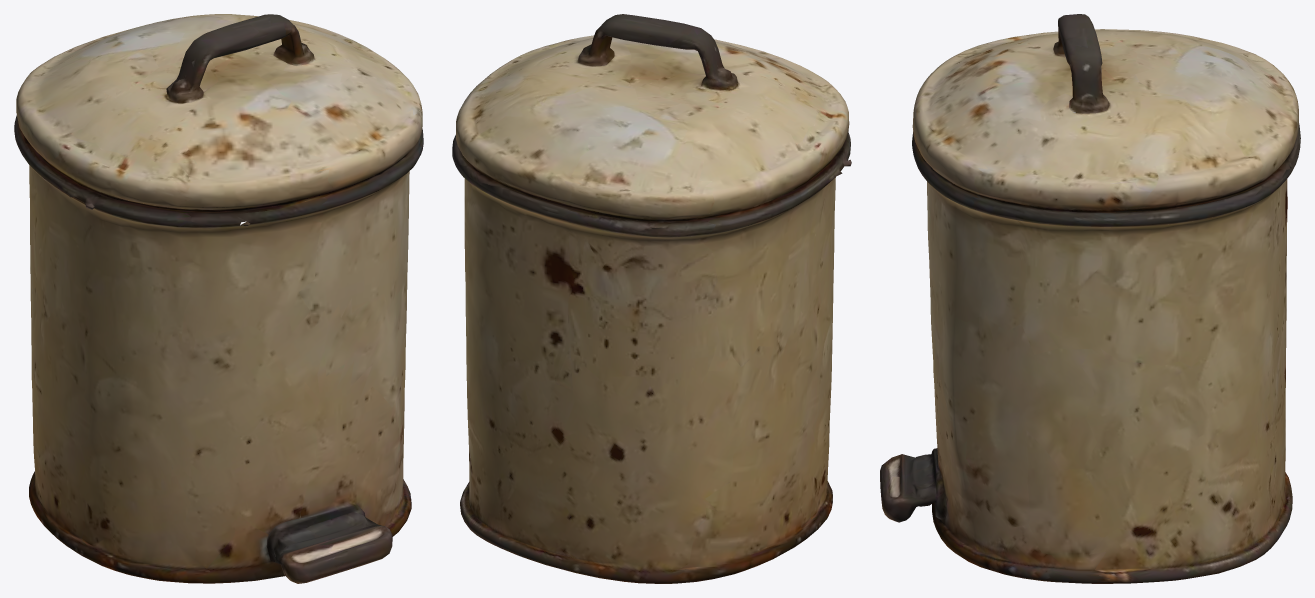
The model's file is waste.glb.
The picture shows the model from 3 angles, left to right: view 1: azimuth 30°, elevation 25°; view 2: azimuth 150°, elevation 25°; view 3: azimuth 270°, elevation 25°; orthographic projection. The views are drawn at different scales.
Parts seen in each view (by area): view 1: tripo_node_bfc0fecc-3671-4216-99c1-187f0698515c; view 2: tripo_node_bfc0fecc-3671-4216-99c1-187f0698515c; view 3: tripo_node_bfc0fecc-3671-4216-99c1-187f0698515c.
Part boxes in pixels (box(x1,y1,x2,y2)): tripo_node_bfc0fecc-3671-4216-99c1-187f0698515c: box(14, 14, 423, 583); tripo_node_bfc0fecc-3671-4216-99c1-187f0698515c: box(452, 14, 851, 583); tripo_node_bfc0fecc-3671-4216-99c1-187f0698515c: box(880, 14, 1300, 583).
Bounding box in the file's own units: 0.7375 × 1 × 0.7886.
1 material, 1 textured.
